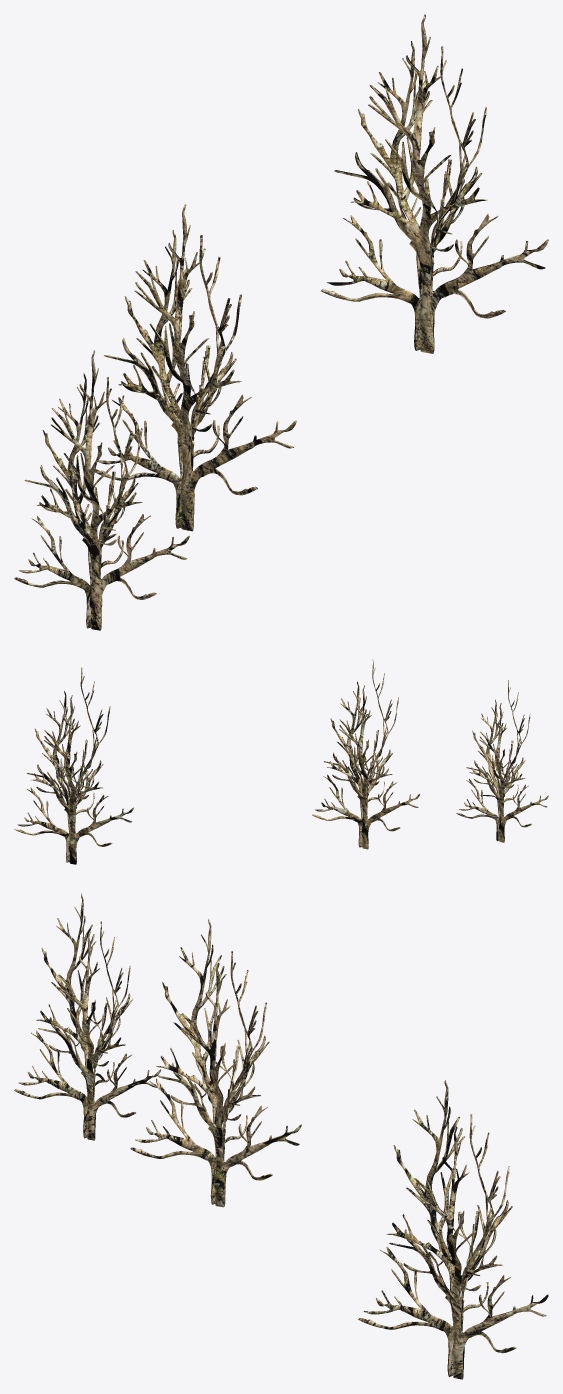
Rendered from AutumnTrees.obj.
3 views of the same model, one above another, from view 1: azimuth 30°, elevation 25°; view 2: azimuth 150°, elevation 25°; view 3: azimuth 270°, elevation 25° (orthographic). The views are drawn at different scales.
Parts seen in each view (by area): view 1: Tree; view 2: Tree; view 3: Tree.
Boxes of the visible parts, <box> form: Tree: <box>14,14,548,630</box>; Tree: <box>14,659,548,864</box>; Tree: <box>14,893,548,1379</box>.
Bounding box in the file's own units: 0.8783 × 0.4177 × 0.6828.
